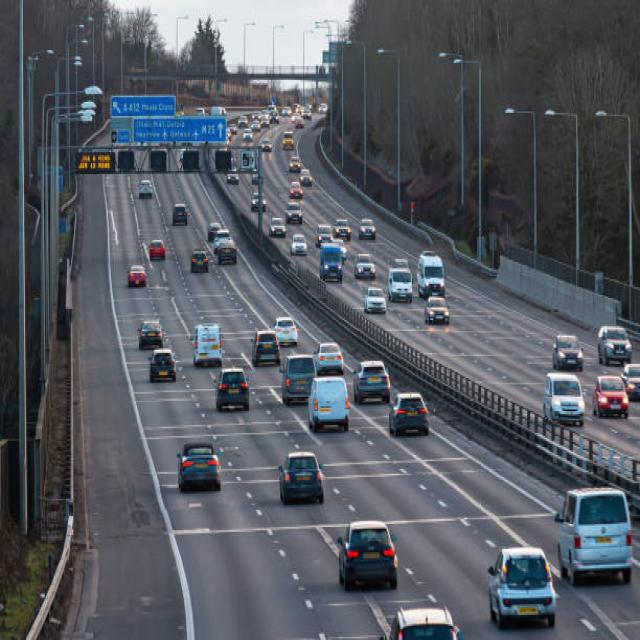Car: (488, 546, 556, 629), (337, 519, 397, 590), (384, 604, 465, 638), (277, 450, 324, 504), (176, 441, 220, 491), (214, 367, 249, 411), (551, 333, 584, 370), (128, 264, 146, 287), (149, 238, 165, 259), (138, 178, 152, 198)
MiniBus: (552, 484, 634, 572), (420, 254, 450, 293)
Traffic-sign: (132, 122, 229, 146), (111, 95, 182, 118)
